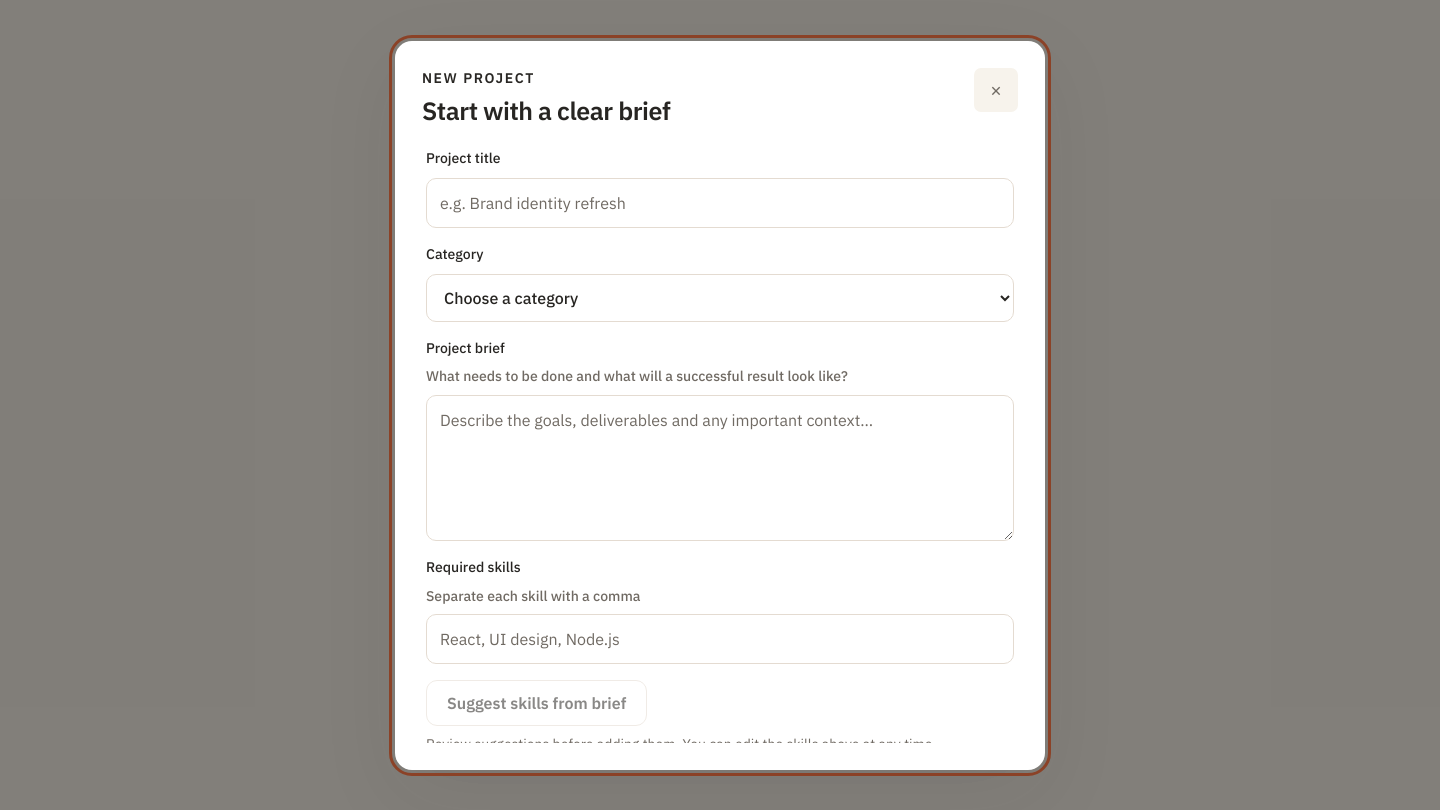
Test: failed draft saving keeps entered work visible and does not close the dialog
Type "Keep this work" into the field with placeholder "e.g. Brand identity refresh" at (720, 203), box [426,178,1014,228]
(page scrolled)
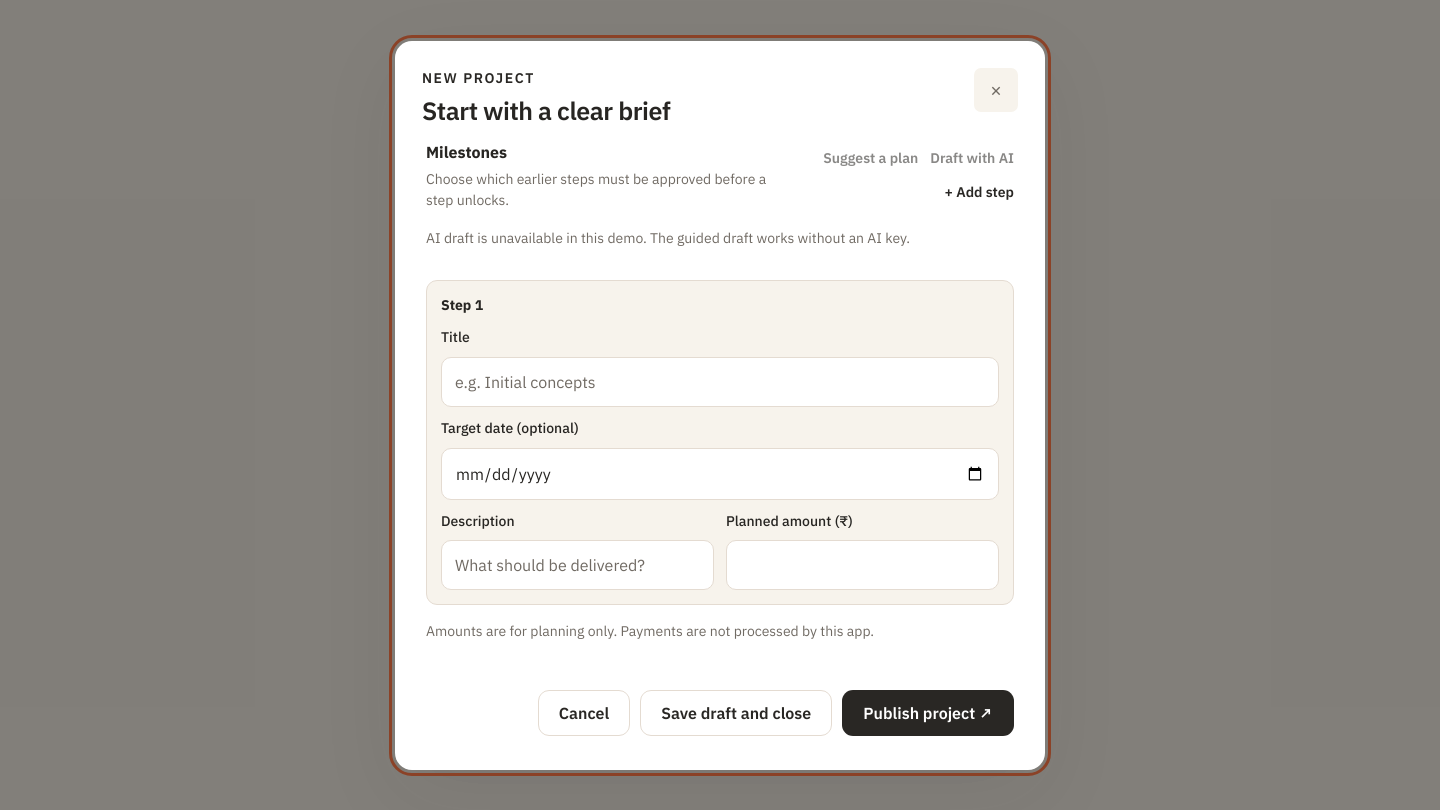
Click the button "Save draft and close" at (736, 713), box [640,690,832,736]
(page scrolled)
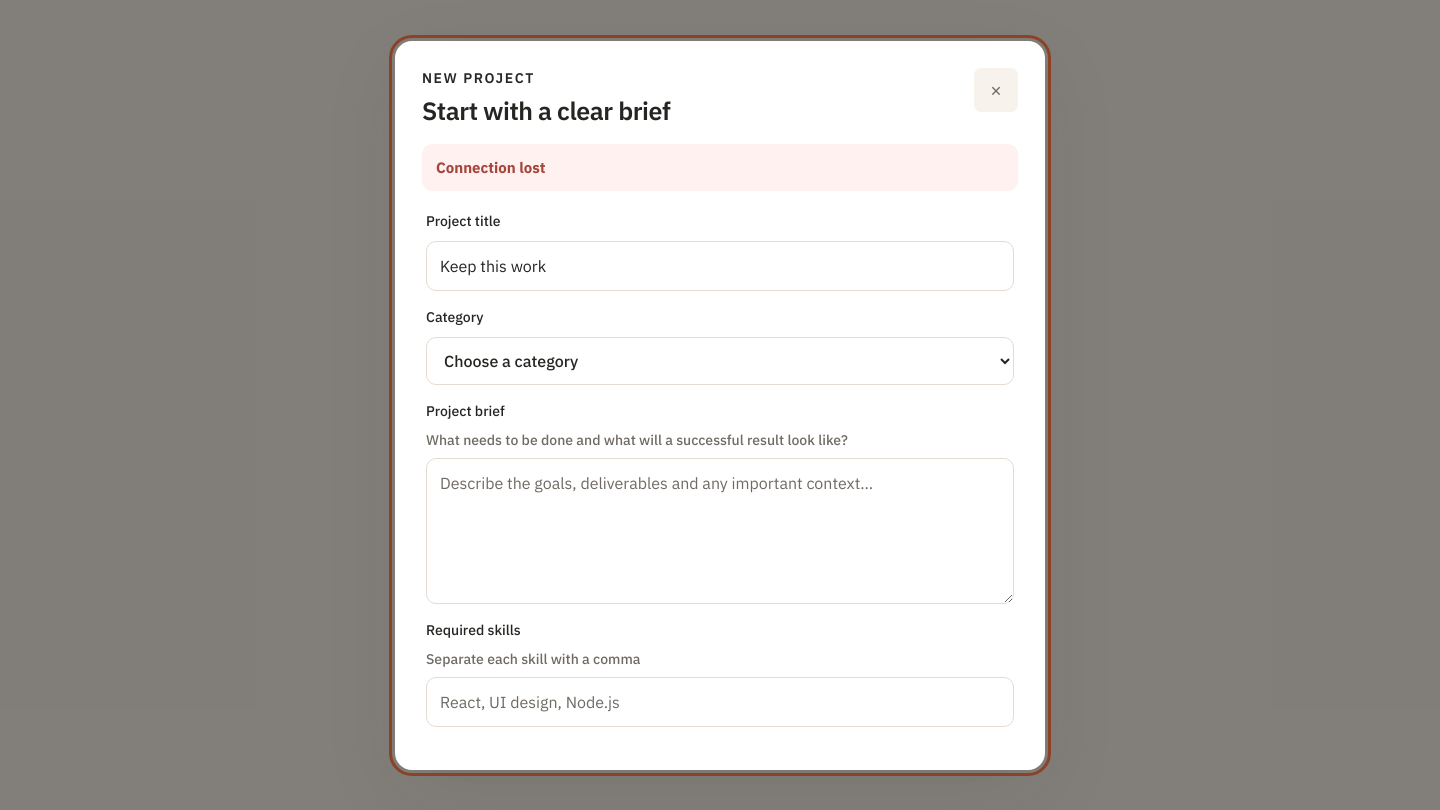
Now the message reads "Connection lost", box [436,158,546,177]
